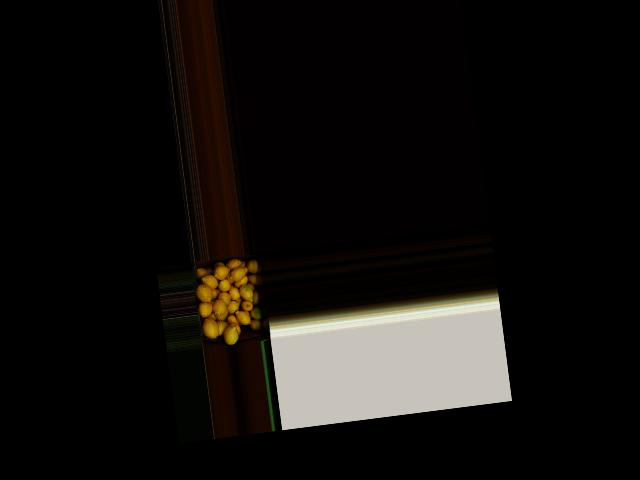lemon: (226, 300, 240, 312)
